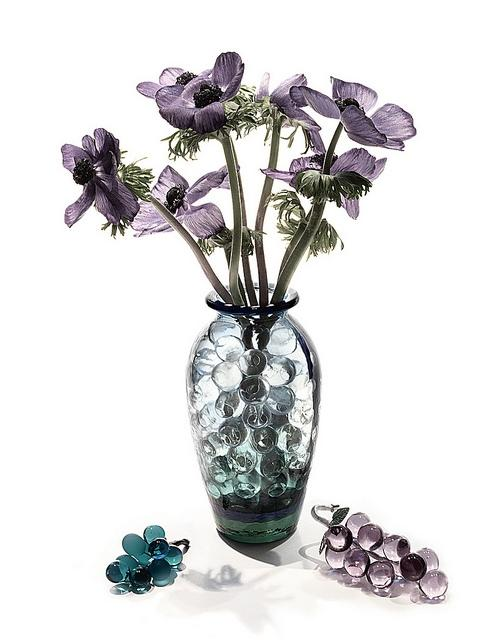grape: (398, 552, 428, 582), (418, 569, 448, 598), (382, 533, 412, 561), (366, 560, 395, 588), (357, 522, 385, 551), (325, 524, 353, 552), (344, 548, 370, 578), (344, 512, 371, 538), (128, 540, 154, 566), (416, 546, 439, 574), (325, 546, 351, 570), (116, 554, 138, 582), (106, 559, 130, 583), (128, 566, 152, 588), (122, 534, 146, 556), (147, 538, 170, 560), (148, 558, 171, 580), (163, 544, 183, 566), (373, 532, 389, 557), (144, 525, 166, 543), (390, 560, 403, 578)
